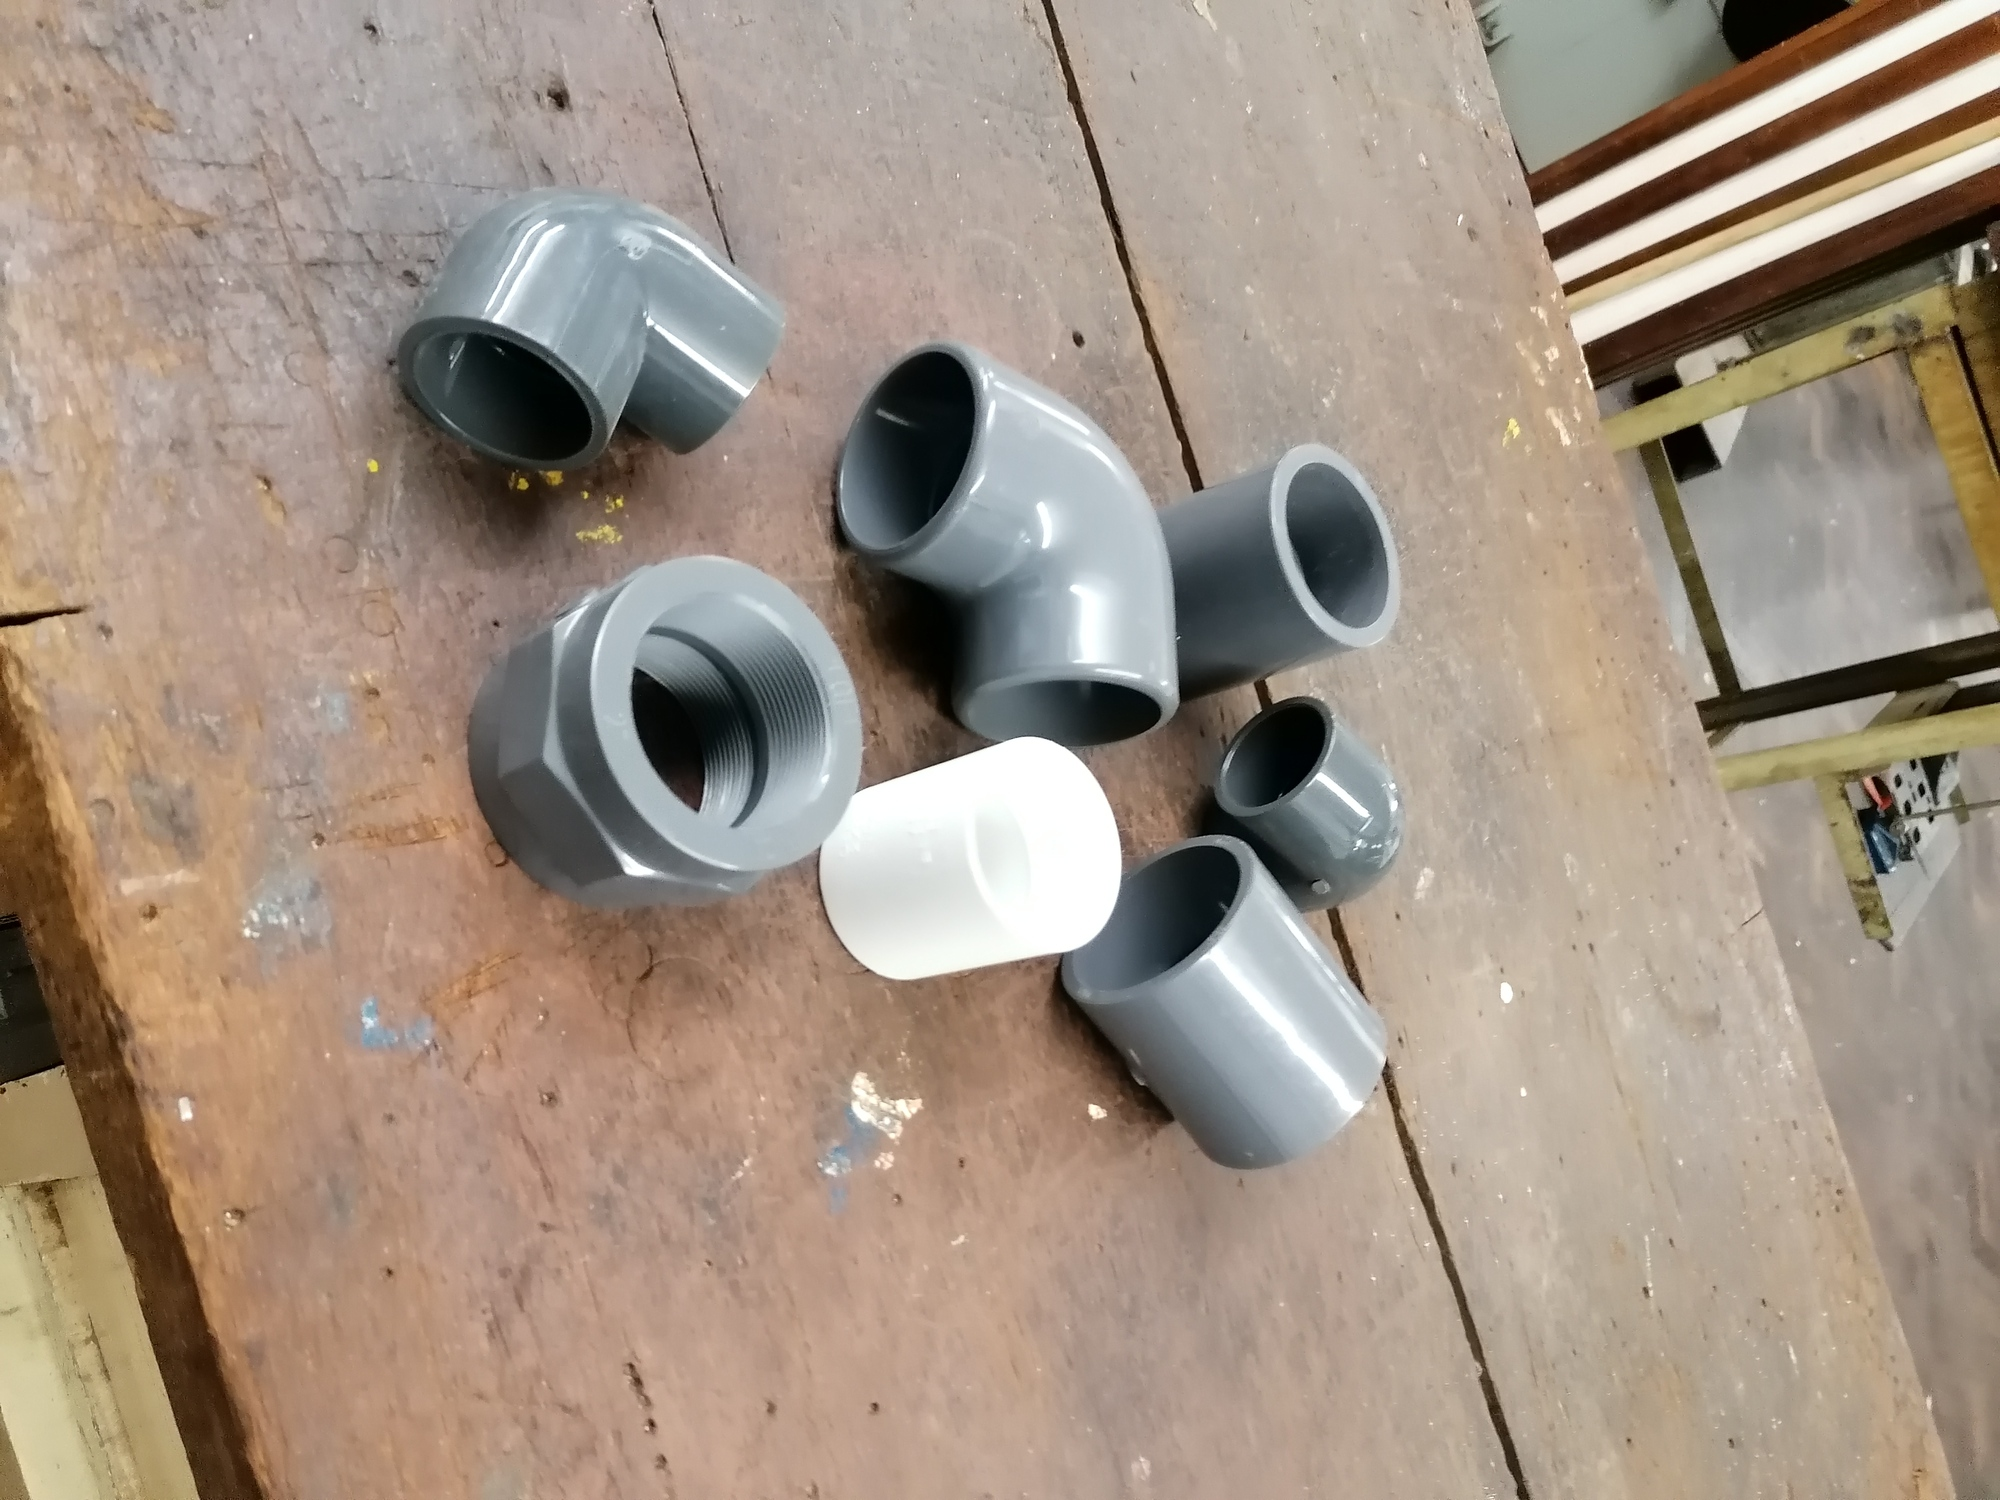nut: (465, 555, 865, 917)
pipe: (831, 337, 1181, 744), (1055, 822, 1391, 1175), (394, 181, 787, 474), (817, 734, 1129, 982), (1146, 441, 1402, 696), (1213, 693, 1408, 914)
